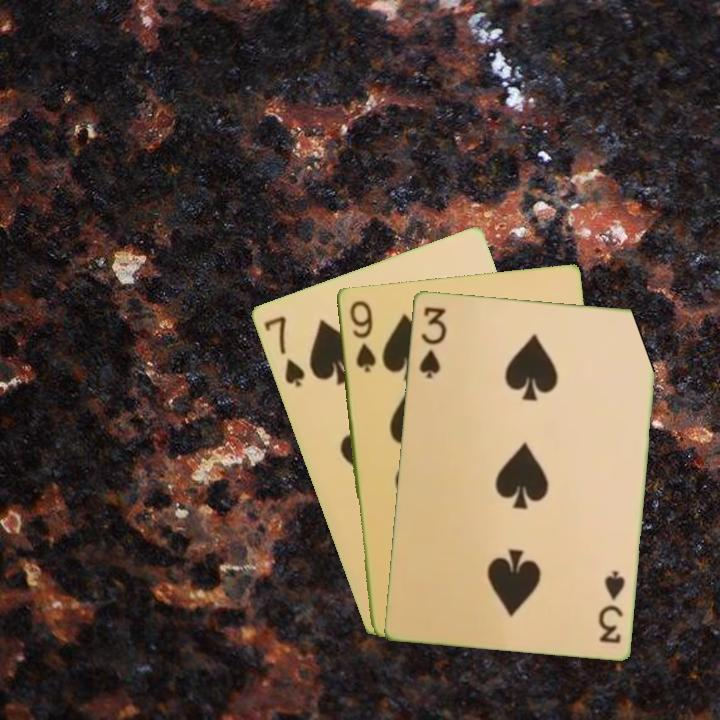3s: (594, 567, 628, 646), (415, 303, 448, 381)
7s: (260, 312, 308, 390)
9s: (345, 296, 379, 375)
